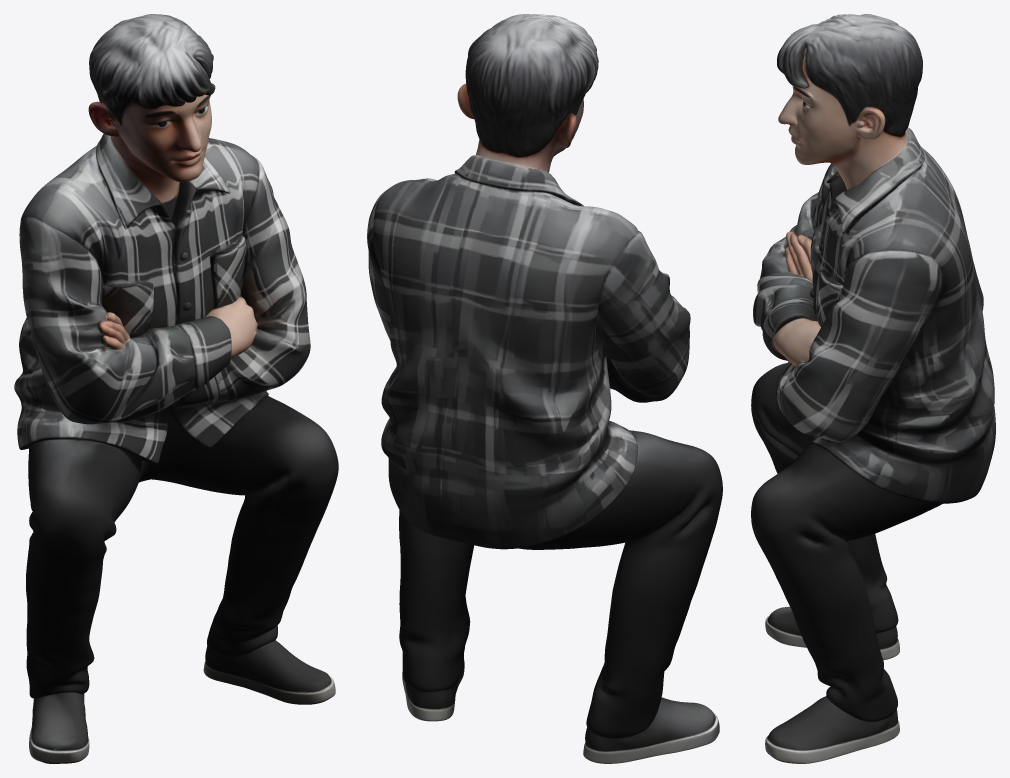
File: FredyUnity.fbx
3 renders of one model, left to right at view 1: azimuth 30°, elevation 25°; view 2: azimuth 150°, elevation 25°; view 3: azimuth 270°, elevation 25°, orthographic. The views are drawn at different scales.
Visible parts, largest first — view 1: tripo_node_2ad5985e; view 2: tripo_node_2ad5985e; view 3: tripo_node_2ad5985e.
Part boxes in pixels (box(x1,y1,x2,y2)): tripo_node_2ad5985e: box(14, 14, 338, 763); tripo_node_2ad5985e: box(367, 14, 722, 763); tripo_node_2ad5985e: box(751, 14, 995, 763).
Bounding box in the file's own units: 0.4566 × 1 × 0.3285.
